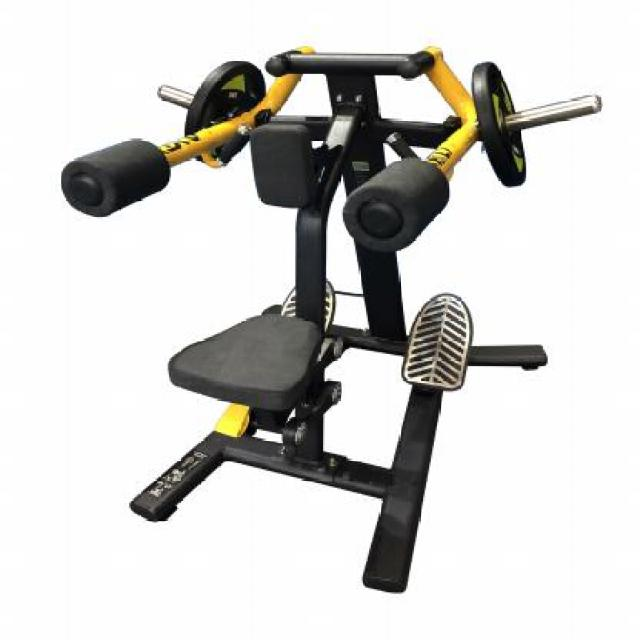lateral raises machine: (60, 42, 598, 590)
